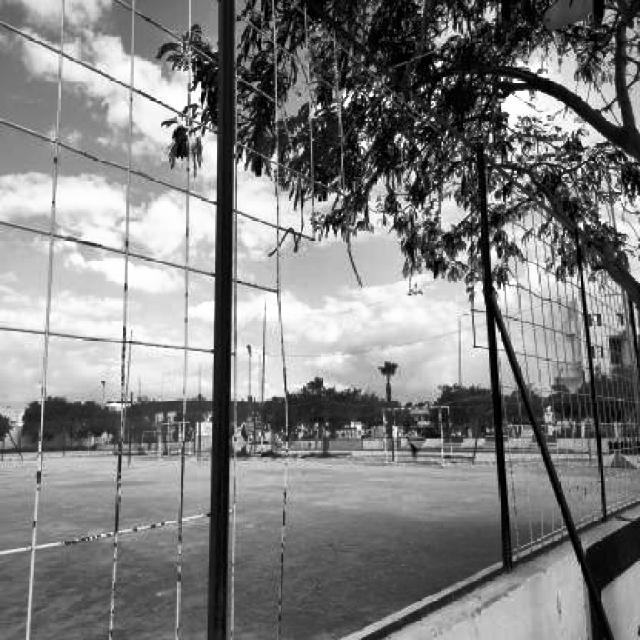anomaly-fence: (199, 135, 525, 638)
